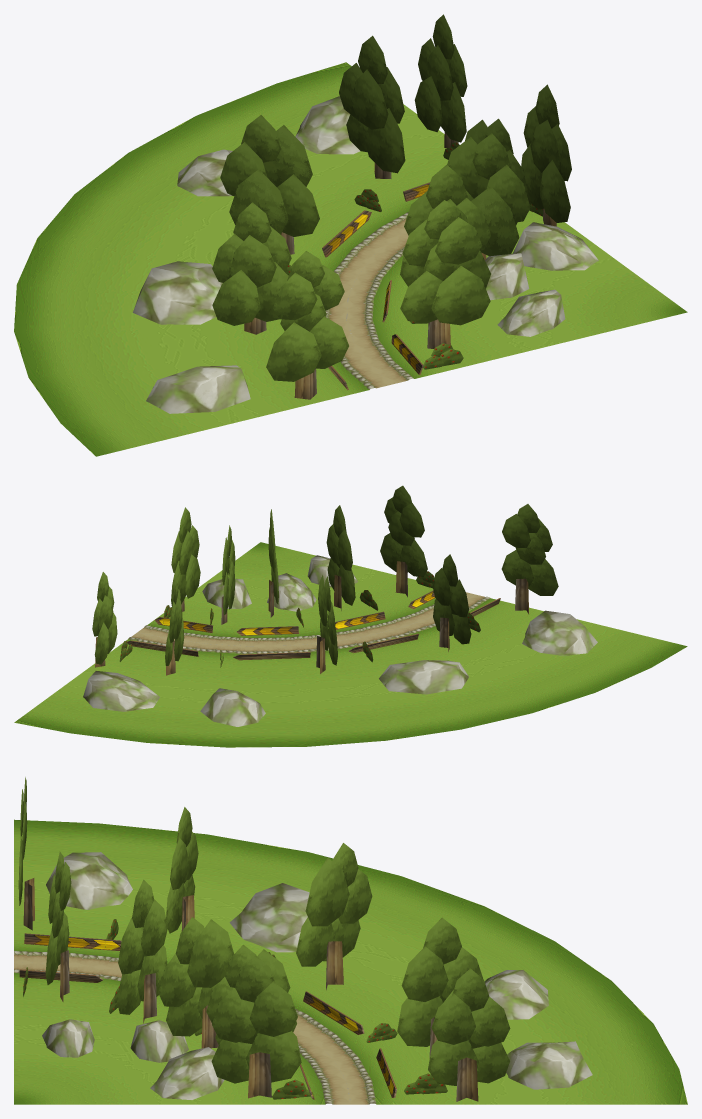
File: ForestRoad01_RightCurve.FBX
The picture shows the model from 3 angles, top to bottom: view 1: azimuth 30°, elevation 25°; view 2: azimuth 150°, elevation 25°; view 3: azimuth 270°, elevation 25°; orthographic projection. The views are drawn at different scales.
Parts seen in each view (by area): view 1: Road, Tree (×10), Stone (×7), Bush; view 2: Road, Tree (×10), Stone (×7), Fence (×3); view 3: Road, Tree (×10), Stone (×7), Fence (×3), Bush (×2).
Boxes of the visible parts, bbox=[...] form: Road: bbox=[14, 62, 687, 456]; Tree (×10): bbox=[212, 14, 571, 399]; Stone (×7): bbox=[133, 96, 598, 413]; Bush: bbox=[423, 343, 463, 369]; Road: bbox=[14, 542, 687, 747]; Tree (×10): bbox=[92, 485, 558, 675]; Stone (×7): bbox=[83, 555, 597, 726]; Fence (×3): bbox=[233, 611, 385, 660]; Road: bbox=[14, 819, 687, 1104]; Tree (×10): bbox=[18, 777, 510, 1101]; Stone (×7): bbox=[42, 852, 592, 1099]; Fence (×3): bbox=[19, 933, 364, 1034]; Bush (×2): bbox=[272, 1073, 447, 1099].
Bounding box in the file's own units: 10000 × 2536 × 10000.
